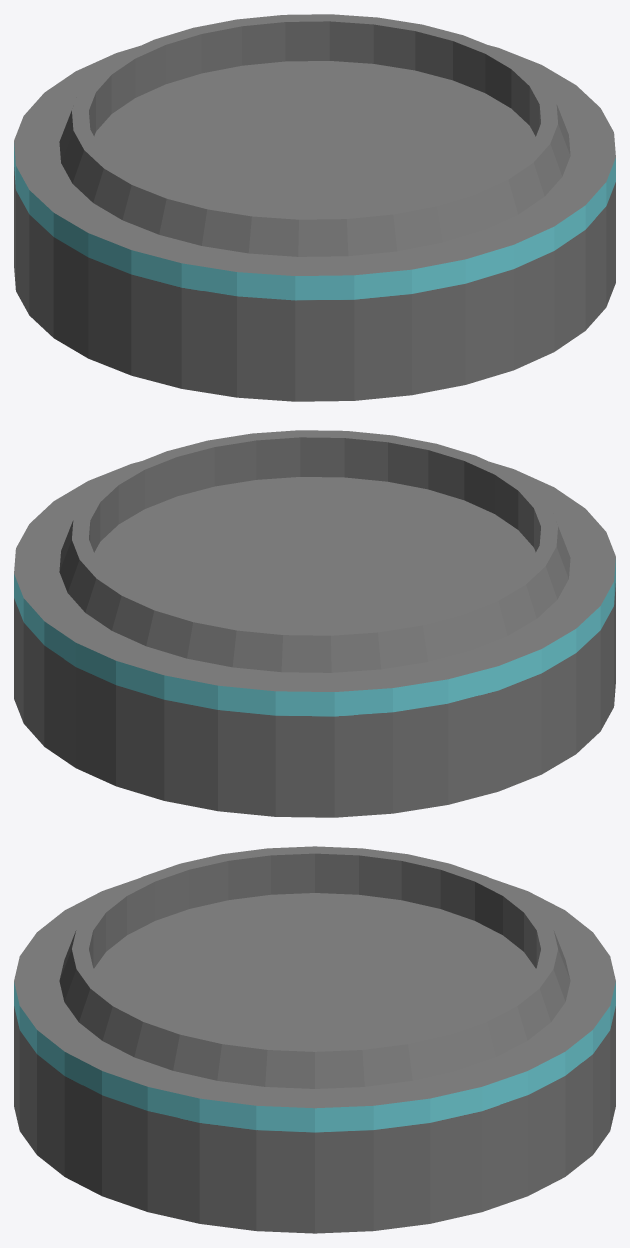
Rendered from holopod.glb.
3 views of the same model, one above another, from view 1: azimuth 30°, elevation 25°; view 2: azimuth 150°, elevation 25°; view 3: azimuth 270°, elevation 25° (orthographic).
Visible parts, largest first — view 1: Cylinder; view 2: Cylinder; view 3: Cylinder.
Part boxes in pixels (x1,y1,x2,y2): Cylinder: (14, 14, 615, 401); Cylinder: (14, 430, 615, 817); Cylinder: (14, 846, 615, 1233).
Size of the model in its own units: 2 by 0.5764 by 2.
Materials: 1 (1 with a texture image).
